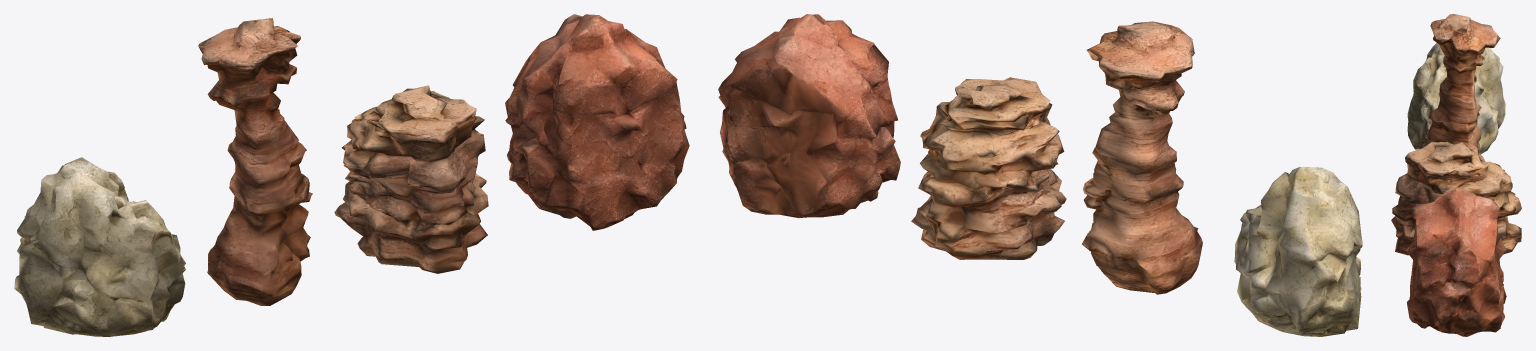
File: rocks_sandstone.glb
3 renders of one model, left to right at view 1: azimuth 30°, elevation 25°; view 2: azimuth 150°, elevation 25°; view 3: azimuth 270°, elevation 25°, orthographic. The views are drawn at different scales.
Visible parts, largest first — view 1: red, limestone, layered, pillar; view 2: red, pillar, layered, limestone; view 3: red, layered, pillar, limestone.
Part boxes in pixels (bbox=[...]): red: bbox=[505, 14, 689, 230]; limestone: bbox=[14, 157, 185, 336]; layered: bbox=[334, 85, 488, 273]; pillar: bbox=[198, 18, 312, 305]; red: bbox=[718, 14, 900, 217]; pillar: bbox=[1082, 21, 1202, 294]; layered: bbox=[911, 77, 1066, 259]; limestone: bbox=[1234, 167, 1362, 336]; red: bbox=[1406, 187, 1506, 336]; layered: bbox=[1391, 142, 1521, 255]; pillar: bbox=[1425, 14, 1500, 162]; limestone: bbox=[1407, 43, 1505, 154].
Size of the model in its own units: 1.14 by 0.4402 by 0.2823.
Materials: 1 (1 with a texture image).
